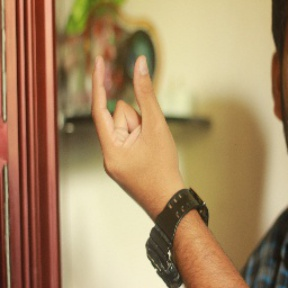U: (84, 49, 185, 187)
